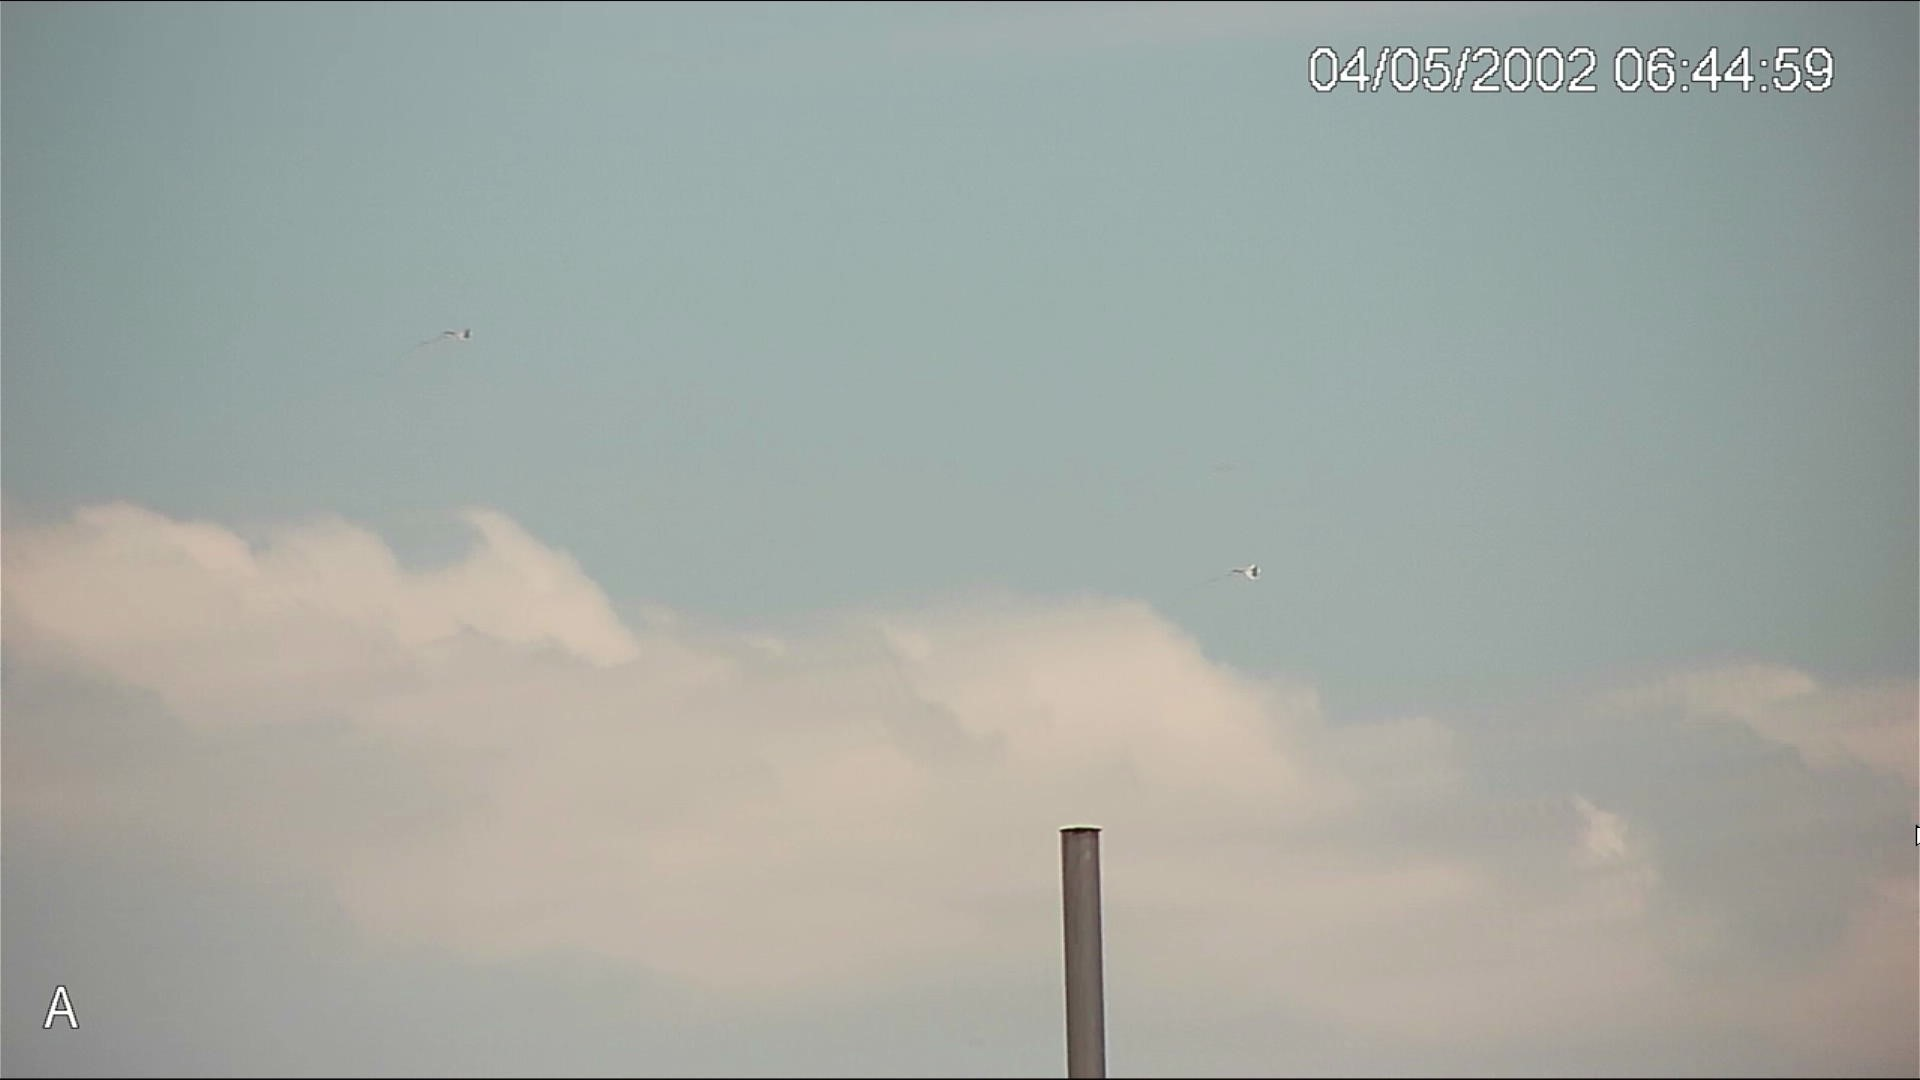SU_30: (1232, 563, 1263, 582), (443, 326, 473, 343)
